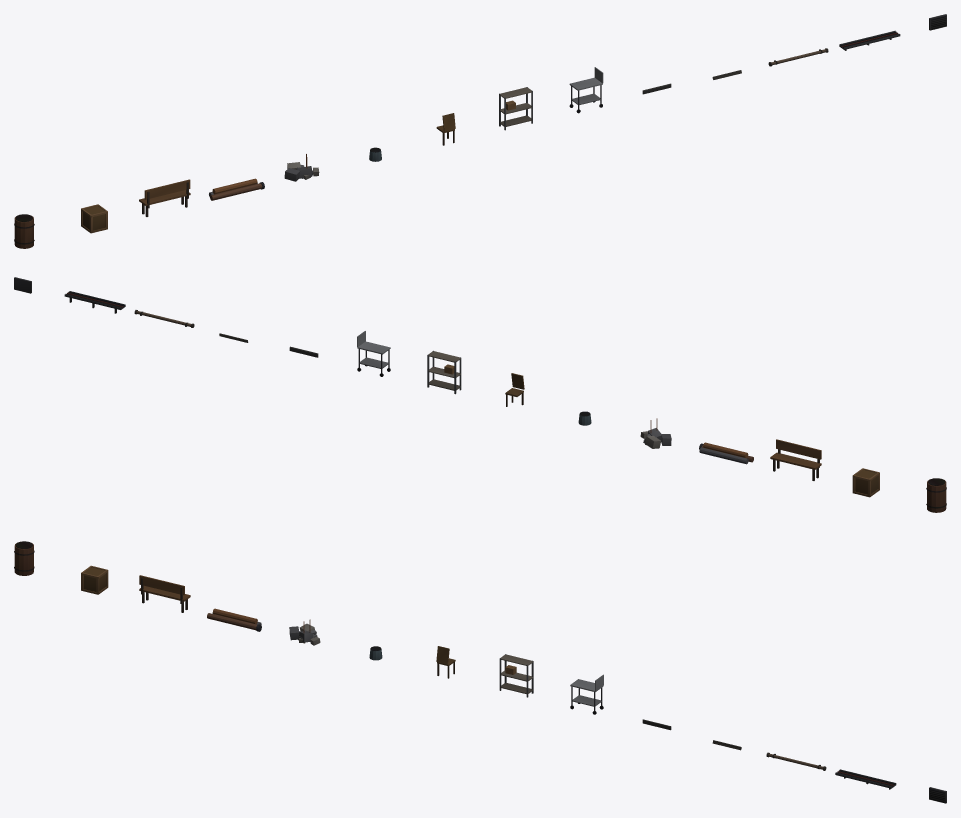
Rendered from props.glb.
The picture shows the model from 3 angles, top to bottom: view 1: azimuth 30°, elevation 25°; view 2: azimuth 150°, elevation 25°; view 3: azimuth 330°, elevation 25°; orthographic projection.
Parts seen in each view (by area): view 1: prop_bench, prop_shelf, prop_cart, prop_barrel, prop_crate, prop_pipes, prop_debris; view 2: prop_bench, prop_shelf, prop_cart, prop_crate, prop_barrel, prop_pipes; view 3: prop_shelf, prop_bench, prop_cart, prop_crate, prop_barrel, prop_pipes.
Boxes of the visible parts, <box> form: prop_bench: <box>139,179,190,216</box>; prop_shelf: <box>499,87,532,130</box>; prop_cart: <box>569,67,603,113</box>; prop_barrel: <box>14,214,34,248</box>; prop_crate: <box>81,204,107,233</box>; prop_pipes: <box>209,178,264,200</box>; prop_debris: <box>284,154,319,181</box>; prop_bench: <box>770,439,821,480</box>; prop_shelf: <box>427,350,461,394</box>; prop_cart: <box>357,331,390,376</box>; prop_crate: <box>852,468,879,497</box>; prop_barrel: <box>926,478,946,512</box>; prop_pipes: <box>699,442,753,464</box>; prop_shelf: <box>499,654,533,697</box>; prop_bench: <box>139,575,190,612</box>; prop_cart: <box>570,674,603,714</box>; prop_crate: <box>81,565,108,594</box>; prop_barrel: <box>14,541,34,575</box>; prop_pipes: <box>207,608,261,631</box>.
Size of the model in its own units: 33.11 by 1.37 by 0.9614.
